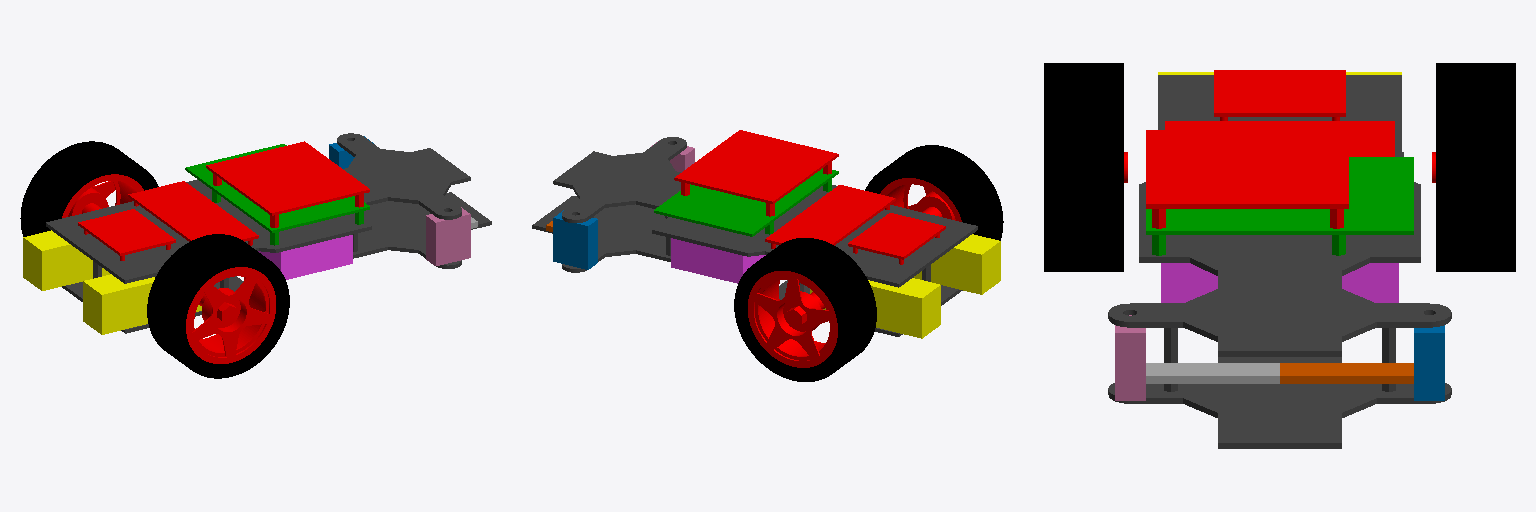
robot.urdf — picarx:
<?xml version="1.0" ?>
<robot name="picarx"
        xmlns:gazebo="http://playerstage.sourceforge.net/gazebo/xmlschema/#gz"
        xmlns:model="http://playerstage.sourceforge.net/gazebo/xmlschema/#model"
        xmlns:sensor="http://playerstage.sourceforge.net/gazebo/xmlschema/#sensor"
        xmlns:body="http://playerstage.sourceforge.net/gazebo/xmlschema/#body"
        xmlns:geom="http://playerstage.sourceforge.net/gazebo/xmlschema/#geom"
        xmlns:joint="http://playerstage.sourceforge.net/gazebo/xmlschema/#joint"
        xmlns:controller="http://playerstage.sourceforge.net/gazebo/xmlschema/#controller"
        xmlns:interface="http://playerstage.sourceforge.net/gazebo/xmlschema/#interface"
        xmlns:rendering="http://playerstage.sourceforge.net/gazebo/xmlschema/#rendering"
        xmlns:physics="http://playerstage.sourceforge.net/gazebo/xmlschema/#physics">
  
  <gazebo>
    <self_collide>true</self_collide>
  </gazebo>
  <link name="world"/>
  <!--<joint name="chassis_JOINT_steer_servo" type="fixed">
    <parent link="chassis"/>
    <child link="picarx_steer_servo"/>
    <origin rpy="0  0  0" xyz="0.139   0.0  0.0485"/>
  </joint>-->

  <!--<joint name="steer_servo_JOINT_steer_bar" type="prismatic">
    <parent link="picarx_steer_servo"/>
    <child link="picarx_steer_bar"/>
    <origin rpy="0  0  0" xyz="0.02   0.0  0.0"/>
    <axis xyz="0  1  0"/>
    <limit effort="1.0" lower="-1.5708" upper="1.5708" velocity="1.0"/>
  </joint>-->
  <!--<joint name="steer_servo_JOINT_steer_bar" type="revolute">
    <parent link="chassis"/>
    <child link="picarx_steer_bar"/>
    <origin rpy="0  0  0" xyz="0.156   0.0  0.0485"/>
    <axis xyz="0  0  1"/>
    <limit effort="1.0" lower="-1.5708" upper="1.5708" velocity="1.0"/>
  </joint>-->
  <!--<link name="picarx_steer_servo">
    <inertial>
      <mass value="1"/>
      <origin rpy="0  0  0" xyz="0  0  0"/>
      <inertia ixx="0.166667" ixy="0" ixz="0" iyy="0.166667" iyz="0" izz="0.166667"/>
    </inertial>
    <visual name="picarx_visual">
      <origin rpy="0  0  0" xyz="0  0  0"/>
      <geometry>
        <cylinder length="0.005" radius="0.005"/>
      </geometry>
    </visual>
  </link>-->

  <link name="chassis">
    <inertial>
      <mass value="1"/>
      <origin rpy="0  0  0" xyz="0  0  0"/>
      <inertia ixx="0.166667" ixy="0" ixz="0" iyy="0.166667" iyz="0" izz="0.166667"/>
    </inertial>
    <collision>
      <origin rpy="0  0  0" xyz="0     0     0.025"/>
      <geometry>
        <mesh filename="package://picarx_description/meshes/Chassis.dae" scale="1 1 1"/>
      </geometry>
    </collision>
    <visual>
      <origin rpy="0  0  0" xyz="0     0     0.025"/>
      <geometry>
        <mesh filename="package://picarx_description/meshes/Chassis.dae" scale="1 1 1"/>
      </geometry>
    </visual>
  </link>

  <joint name="chassis_to_world" type="fixed">
    <parent link="world" />
    <child link="chassis" />
  </joint>


  <link name="right_wheel">
    <inertial>
      <mass value="1"/>
      <origin rpy="0  0  0" xyz="0 0 0"/>
      <inertia ixx="0.166667" ixy="0" ixz="0" iyy="0.166667" iyz="0" izz="0.166667"/>
    </inertial>
    <collision>
      <origin rpy="0  0  0" xyz="0 0 0"/>
      <geometry>
        <mesh filename="package://picarx_description/meshes/WheelRearRight.dae" scale="1 1 1"/>
      </geometry>
    </collision>
    <visual>
      <origin rpy="0  0  0" xyz="0 0 0"/>
      <geometry>
        <mesh filename="package://picarx_description/meshes/WheelRearRight.dae" scale="1 1 1"/>
      </geometry>
    </visual>
  </link>
  <joint name="joint_wheel_right" type="continuous">
    <parent link="chassis"/>
    <child link="right_wheel"/>
    <origin rpy="1.5708 0      0" xyz="0.0   -0.063  0.04"/>
    <axis xyz="0 0 1"/>
  </joint>


  <link name="left_wheel">
    <inertial>
      <mass value="1"/>
      <origin rpy="0  0  0" xyz="0 0 0"/>
      <inertia ixx="0.166667" ixy="0" ixz="0" iyy="0.166667" iyz="0" izz="0.166667"/>
    </inertial>
    <collision>
      <origin rpy="0  0  0" xyz="0 0 0"/>
      <geometry>
        <mesh filename="package://picarx_description/meshes/WheelRearLeft.dae" scale="1 1 1"/>
      </geometry>
    </collision>
    <visual>
      <origin rpy="0  0  0" xyz="0 0 0"/>
      <geometry>
        <mesh filename="package://picarx_description/meshes/WheelRearLeft.dae" scale="1 1 1"/>
      </geometry>
    </visual>
  </link>
  <joint name="joint_wheel_left" type="continuous">
    <parent link="chassis"/>
    <child link="left_wheel"/>
    <origin rpy="1.5708  0 0" xyz="0.0   0.063  0.04"/>
    <axis xyz="0  0  1"/>
  </joint>



  <!--<link name="picarx_WheelFrontLeft">
    <inertial>
      <mass value=""/>
      <origin rpy="-1.5708  0  0" xyz="0 0 0"/>
      <inertia ixx="0.166667" ixy="0" ixz="0" iyy="0.166667" iyz="0" izz="0.166667"/>
    </inertial>
    <collision>
      <origin rpy="-1.5708  0  0" xyz="0 0 0"/>
      <geometry>
        <mesh filename="package://picarx_description/meshes/WheelFrontLeft.dae" scale="1 1 1"/>
      </geometry>
    </collision>
    <visual>
      <origin rpy="-1.5708  0  0" xyz="0 0 0"/>
      <geometry>
        <mesh filename="package://picarx_description/meshes/WheelFrontLeft.dae" scale="1 1 1"/>
      </geometry>
    </visual>
  </link>
  <joint name="front_left_wheel" type="continuous">
    <parent link="picarx_steer_fl"/>
    <child link="picarx_WheelFrontLeft"/>
    <origin rpy="0 0 0" xyz="0.01   0.025  0.005"/>
    <axis xyz="0  0  1"/>
  </joint>-->

  <link name="picarx_steer_fl">
    <inertial>
      <mass value="1"/>
      <origin rpy="0  0  0" xyz="0.01 0.005 0"/>
      <inertia ixx="0.166667" ixy="0" ixz="0" iyy="0.166667" iyz="0" izz="0.166667"/>
    </inertial>
    <visual>
      <origin rpy="0  0  0" xyz="0.01 0.005 0"/>
      <geometry>
        <box size="0.02 0.01 0.024"/>
      </geometry>
    </visual>
    <collision>
      <origin rpy="0  0  0" xyz="0.01 0.005 0"/>
      <geometry>
        <box size="0.02 0.01 0.024"/>
      </geometry>
    </collision>
  </link>
  <joint name="steer_left" type="continuous">
    <parent link="chassis"/>
    <child link="picarx_steer_fl"/>
    <origin rpy="0  0  0" xyz="0.13   0.043  0.0395"/>
    <axis xyz="0 0 1" />
  </joint>

  <link name="picarx_steer_bar_l">
    <inertial>
      <mass value="1"/>
      <origin rpy="0  0  0" xyz="0.005   -0.0215 0"/>
      <inertia ixx="0.166667" ixy="0" ixz="0" iyy="0.166667" iyz="0" izz="0.166667"/>
    </inertial>
    <visual>
      <origin rpy="0  0  0" xyz="0.005   -0.0215 0"/>
      <geometry>
        <box size="0.01 0.043 0.003"/>
      </geometry>
    </visual>
    <collision>
      <origin rpy="0  0  0" xyz="0.005   -0.0215 0"/>
      <!--<origin rpy="0  0  0" xyz="0.005   -0.0214999995 0"/>-->
      <geometry>
        <box size="0.01 0.043 0.003"/>
      </geometry>
    </collision>
  </link>
  <joint name="steerbar_left" type="continuous" >
      <axis xyz="0 0 1" />
      <parent link="picarx_steer_fl" />
      <child link="picarx_steer_bar_l" />
      <origin rpy="0 0 0" xyz="0.01999999  0  0"/>
  </joint>

  <!--<link name="picarx_WheelFrontRight">
    <inertial>
      <mass value="1"/>
      <origin rpy="-1.5708  0  0" xyz="0 0 0"/>
      <inertia ixx="0.166667" ixy="0" ixz="0" iyy="0.166667" iyz="0" izz="0.166667"/>
    </inertial>
    <collision>
      <origin rpy="-1.5708  0  0" xyz="0 0 0"/>
      <geometry>
        <mesh filename="package://picarx_description/meshes/WheelFrontRight.dae" scale="1 1 1"/>
      </geometry>
    </collision>
    <visual>
      <origin rpy="-1.5708  0  0" xyz="0 0 0"/>
      <geometry>
        <mesh filename="package://picarx_description/meshes/WheelFrontRight.dae" scale="1 1 1"/>
      </geometry>
    </visual>
  </link>
  <joint name="front_right_wheel" type="continuous">
    <parent link="picarx_steer_fr"/>
    <child link="picarx_WheelFrontRight"/>
    <origin rpy="0 0 0" xyz="0.01 -0.025 0.005"/>
    <axis xyz="0  0  1"/>
  </joint>-->

  <link name="picarx_steer_fr">
    <inertial>
      <mass value="1"/>
      <origin rpy="0  0  0" xyz="0.01 -0.05 0"/>
      <inertia ixx="0.166667" ixy="0" ixz="0" iyy="0.166667" iyz="0" izz="0.166667"/>
    </inertial>
    <visual>
      <origin rpy="0  0  0" xyz="0.01 -0.005 0"/>
      <geometry>
        <box size="0.02 0.01 0.024"/>
      </geometry>
    </visual>
    <collision>
      <origin rpy="0  0  0" xyz="0.01 -0.005 0"/>
      <geometry>
        <box size="0.02 0.01 0.024"/>
      </geometry>
    </collision>
  </link>
  <joint name="steer_right" type="continuous">
    <parent link="chassis"/>
    <child link="picarx_steer_fr"/>
    <origin rpy="0  0  0" xyz="0.13   -0.043  0.0395"/>
    <axis xyz="0 0 1" />
  </joint>

  <link name="picarx_steer_bar_r">
    <inertial>
      <mass value="1"/>
      <origin rpy="0  0  0" xyz="0.005   0.0215  0"/>
      <inertia ixx="0.166667" ixy="0" ixz="0" iyy="0.166667" iyz="0" izz="0.166667"/>
    </inertial>
    <visual>
      <origin rpy="0  0  0" xyz="0.005   0.0215 0"/>
      <geometry>
        <box size="0.01 0.043 0.003"/>
      </geometry>
    </visual>
    <collision>
      <origin rpy="0  0  0" xyz="0.005   0.0215 0"/>
      <geometry>
        <box size="0.01 0.043 0.003"/>
      </geometry>
    </collision>
  </link>
  <joint name="steerbar_right" type="continuous" >
      <axis xyz="0 0 1" />
      <parent link="picarx_steer_fr" />
      <child link="picarx_steer_bar_r" />
      <origin rpy="0.0 0 0" xyz="0.01999999   0  0" />
  </joint>

  <gazebo>
      <joint name="ackermann_bar_loop_joint_right" type="fixed">
        <pose>0.005 -0.0431 0 0 0 0</pose>
        <parent>picarx_steer_bar_r</parent>
        <child>picarx_steer_bar_l</child>
      </joint>
  </gazebo>

 <transmission name="trans_right_wheel">
    <type>transmission_interface/SimpleTransmission</type>
    <joint name="joint_wheel_right">
      <hardwareInterface>hardware_interface/VelocityJointInterface</hardwareInterface>
    </joint>
    <actuator name="motor_right">
      <mechanicalReduction>1</mechanicalReduction>
      <hardwareInterface>hardware_interface/VelocityJointInterface</hardwareInterface>
    </actuator>
  </transmission>

  <transmission name="trans_left_wheel">
    <type>transmission_interface/SimpleTransmission</type>
    <joint name="joint_wheel_left">
      <hardwareInterface>hardware_interface/VelocityJointInterface</hardwareInterface>
    </joint>
    <actuator name="motor_left">
      <mechanicalReduction>1</mechanicalReduction>
      <hardwareInterface>hardware_interface/VelocityJointInterface</hardwareInterface>
    </actuator>
  </transmission>

  <transmission name="trans_steering_servo_l">
    <type>transmission_interface/SimpleTransmission</type>
    <joint name="steerbar_left">
      <hardwareInterface>hardware_interface/PositionJointInterface</hardwareInterface>
    </joint>
    <actuator name="steering_servo_l">
      <mechanicalReduction>1</mechanicalReduction>
      <hardwareInterface>hardware_interface/PositionJointInterface</hardwareInterface>
    </actuator>
  </transmission>

  <transmission name="trans_steering_servo_r">
    <type>transmission_interface/SimpleTransmission</type>
    <joint name="steerbar_right">
      <hardwareInterface>hardware_interface/PositionJointInterface</hardwareInterface>
    </joint>
    <actuator name="steering_servo_r">
      <mechanicalReduction>1</mechanicalReduction>
      <hardwareInterface>hardware_interface/PositionJointInterface</hardwareInterface>
    </actuator>
  </transmission>

  <gazebo>
    <plugin name="gazebo_ros_control" filename="libgazebo_ros_control.so">
      <robotNamespace>/picarx</robotNamespace>
    </plugin>
  </gazebo>
</robot>

--- Render facts (derived) ---
3 views of the same robot in one strip: view 1: azimuth 30°, elevation 25°; view 2: azimuth 150°, elevation 25°; view 3: azimuth 270°, elevation 25° (orthographic).
Robot: picarx — 8 links, 7 joints (6 continuous, 1 fixed); root link world; default pose: every joint at zero.
Links seen in each view (by area): view 1: chassis, right_wheel, left_wheel, picarx_steer_fr; view 2: chassis, left_wheel, right_wheel, picarx_steer_fl; view 3: chassis, right_wheel, left_wheel, picarx_steer_bar_l, picarx_steer_bar_r, picarx_steer_fr, picarx_steer_fl.
Boxes of the visible links, <box> form: chassis: <box>23,133,491,334</box>; right_wheel: <box>147,234,289,378</box>; left_wheel: <box>20,141,158,236</box>; picarx_steer_fr: <box>426,207,470,265</box>; chassis: <box>532,130,1000,338</box>; left_wheel: <box>734,238,876,381</box>; right_wheel: <box>865,145,1003,240</box>; picarx_steer_fl: <box>553,210,597,269</box>; chassis: <box>1108,70,1451,448</box>; right_wheel: <box>1044,63,1127,271</box>; left_wheel: <box>1432,63,1515,271</box>; picarx_steer_bar_l: <box>1280,363,1413,383</box>; picarx_steer_bar_r: <box>1146,363,1279,383</box>; picarx_steer_fr: <box>1115,315,1145,400</box>; picarx_steer_fl: <box>1414,325,1444,400</box>.
Bounding box of the posed robot: 0.234 × 0.151 × 0.067 m (x, y, z).
Meshes: 3 distinct files referenced, 3 mesh visuals loaded (3 Collada DAE).